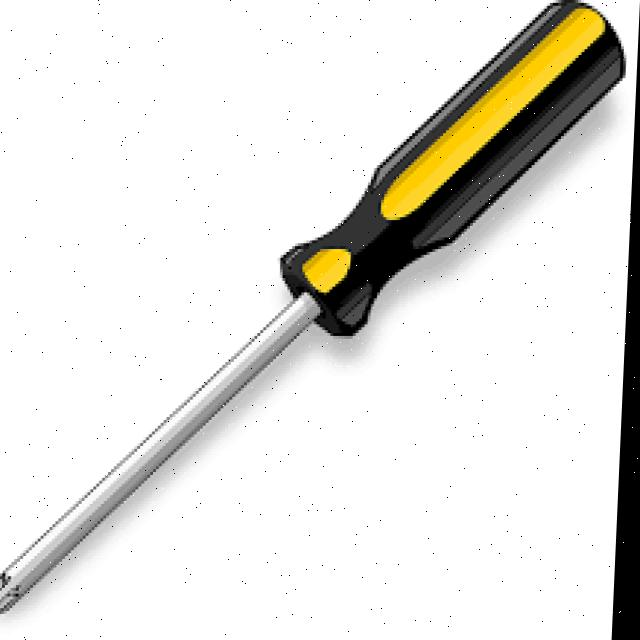Screwdriver: (0, 3, 624, 616)
